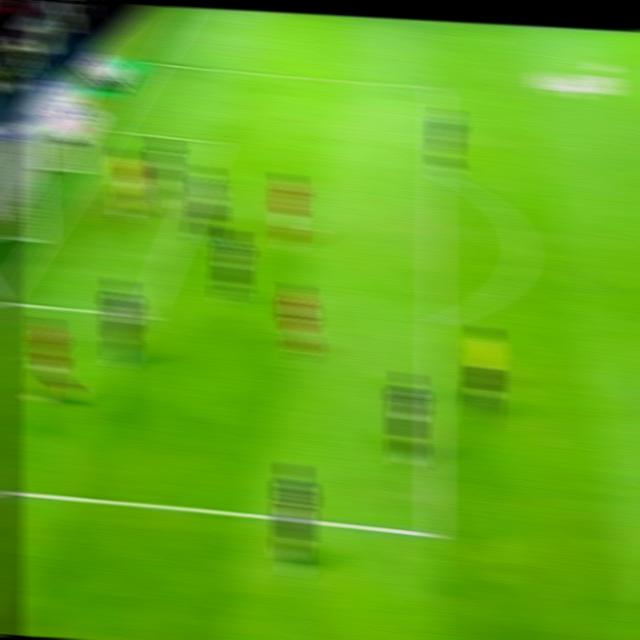bigarea_bottom_inner: (415, 516, 445, 550)
bigarea_top_inner: (424, 77, 449, 96)
bigarea_top_outter: (144, 54, 165, 68)
bottom_arc_area_intersection: (423, 311, 446, 335)
smallarea_bottom_inner: (129, 301, 155, 328)
smallarea_top_inner: (205, 131, 230, 151)
smallarea_top_outter: (97, 118, 122, 138)
top_arc_area_intersection: (426, 163, 445, 181)
